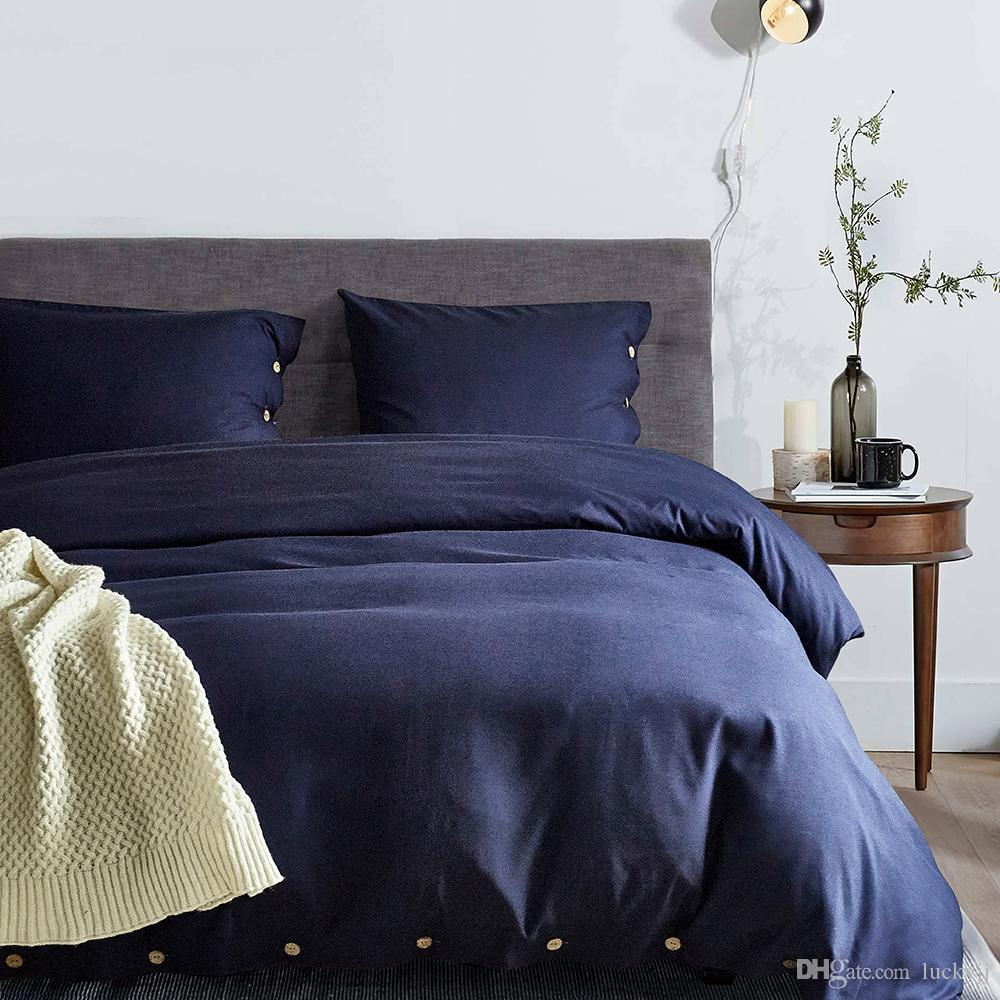bed: (0, 173, 798, 1000)
